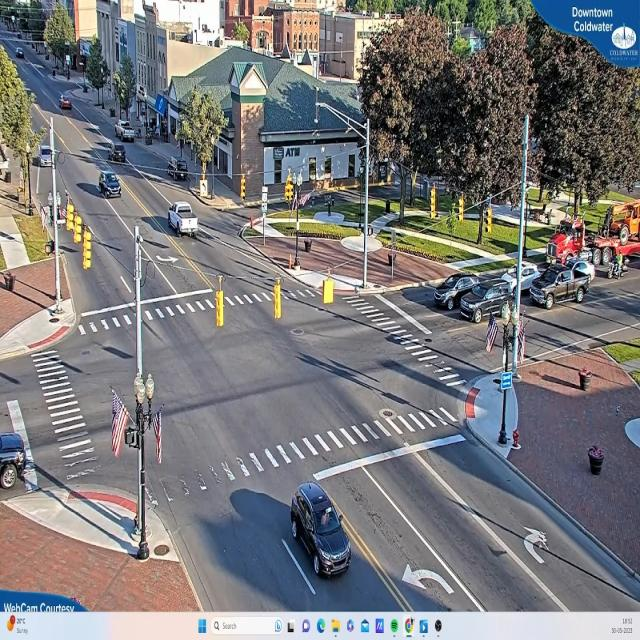car: (291, 482, 351, 578), (532, 264, 594, 310), (461, 273, 517, 322), (504, 260, 541, 296), (433, 272, 468, 308), (169, 204, 200, 238), (98, 172, 121, 197), (118, 123, 137, 143), (38, 145, 52, 168), (112, 146, 128, 163), (60, 98, 71, 109)
